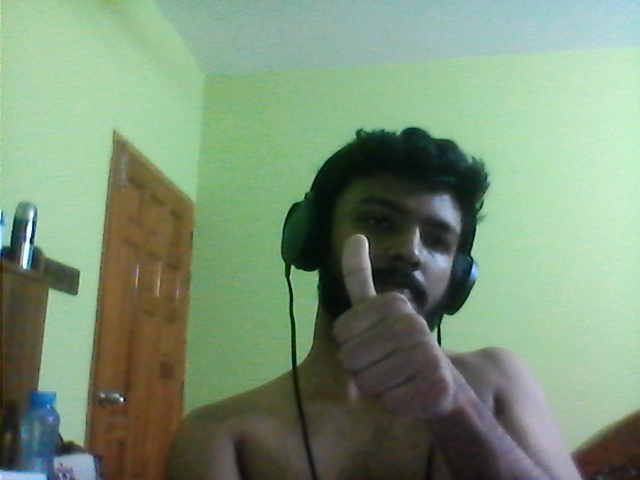Yes: (319, 229, 488, 438)
